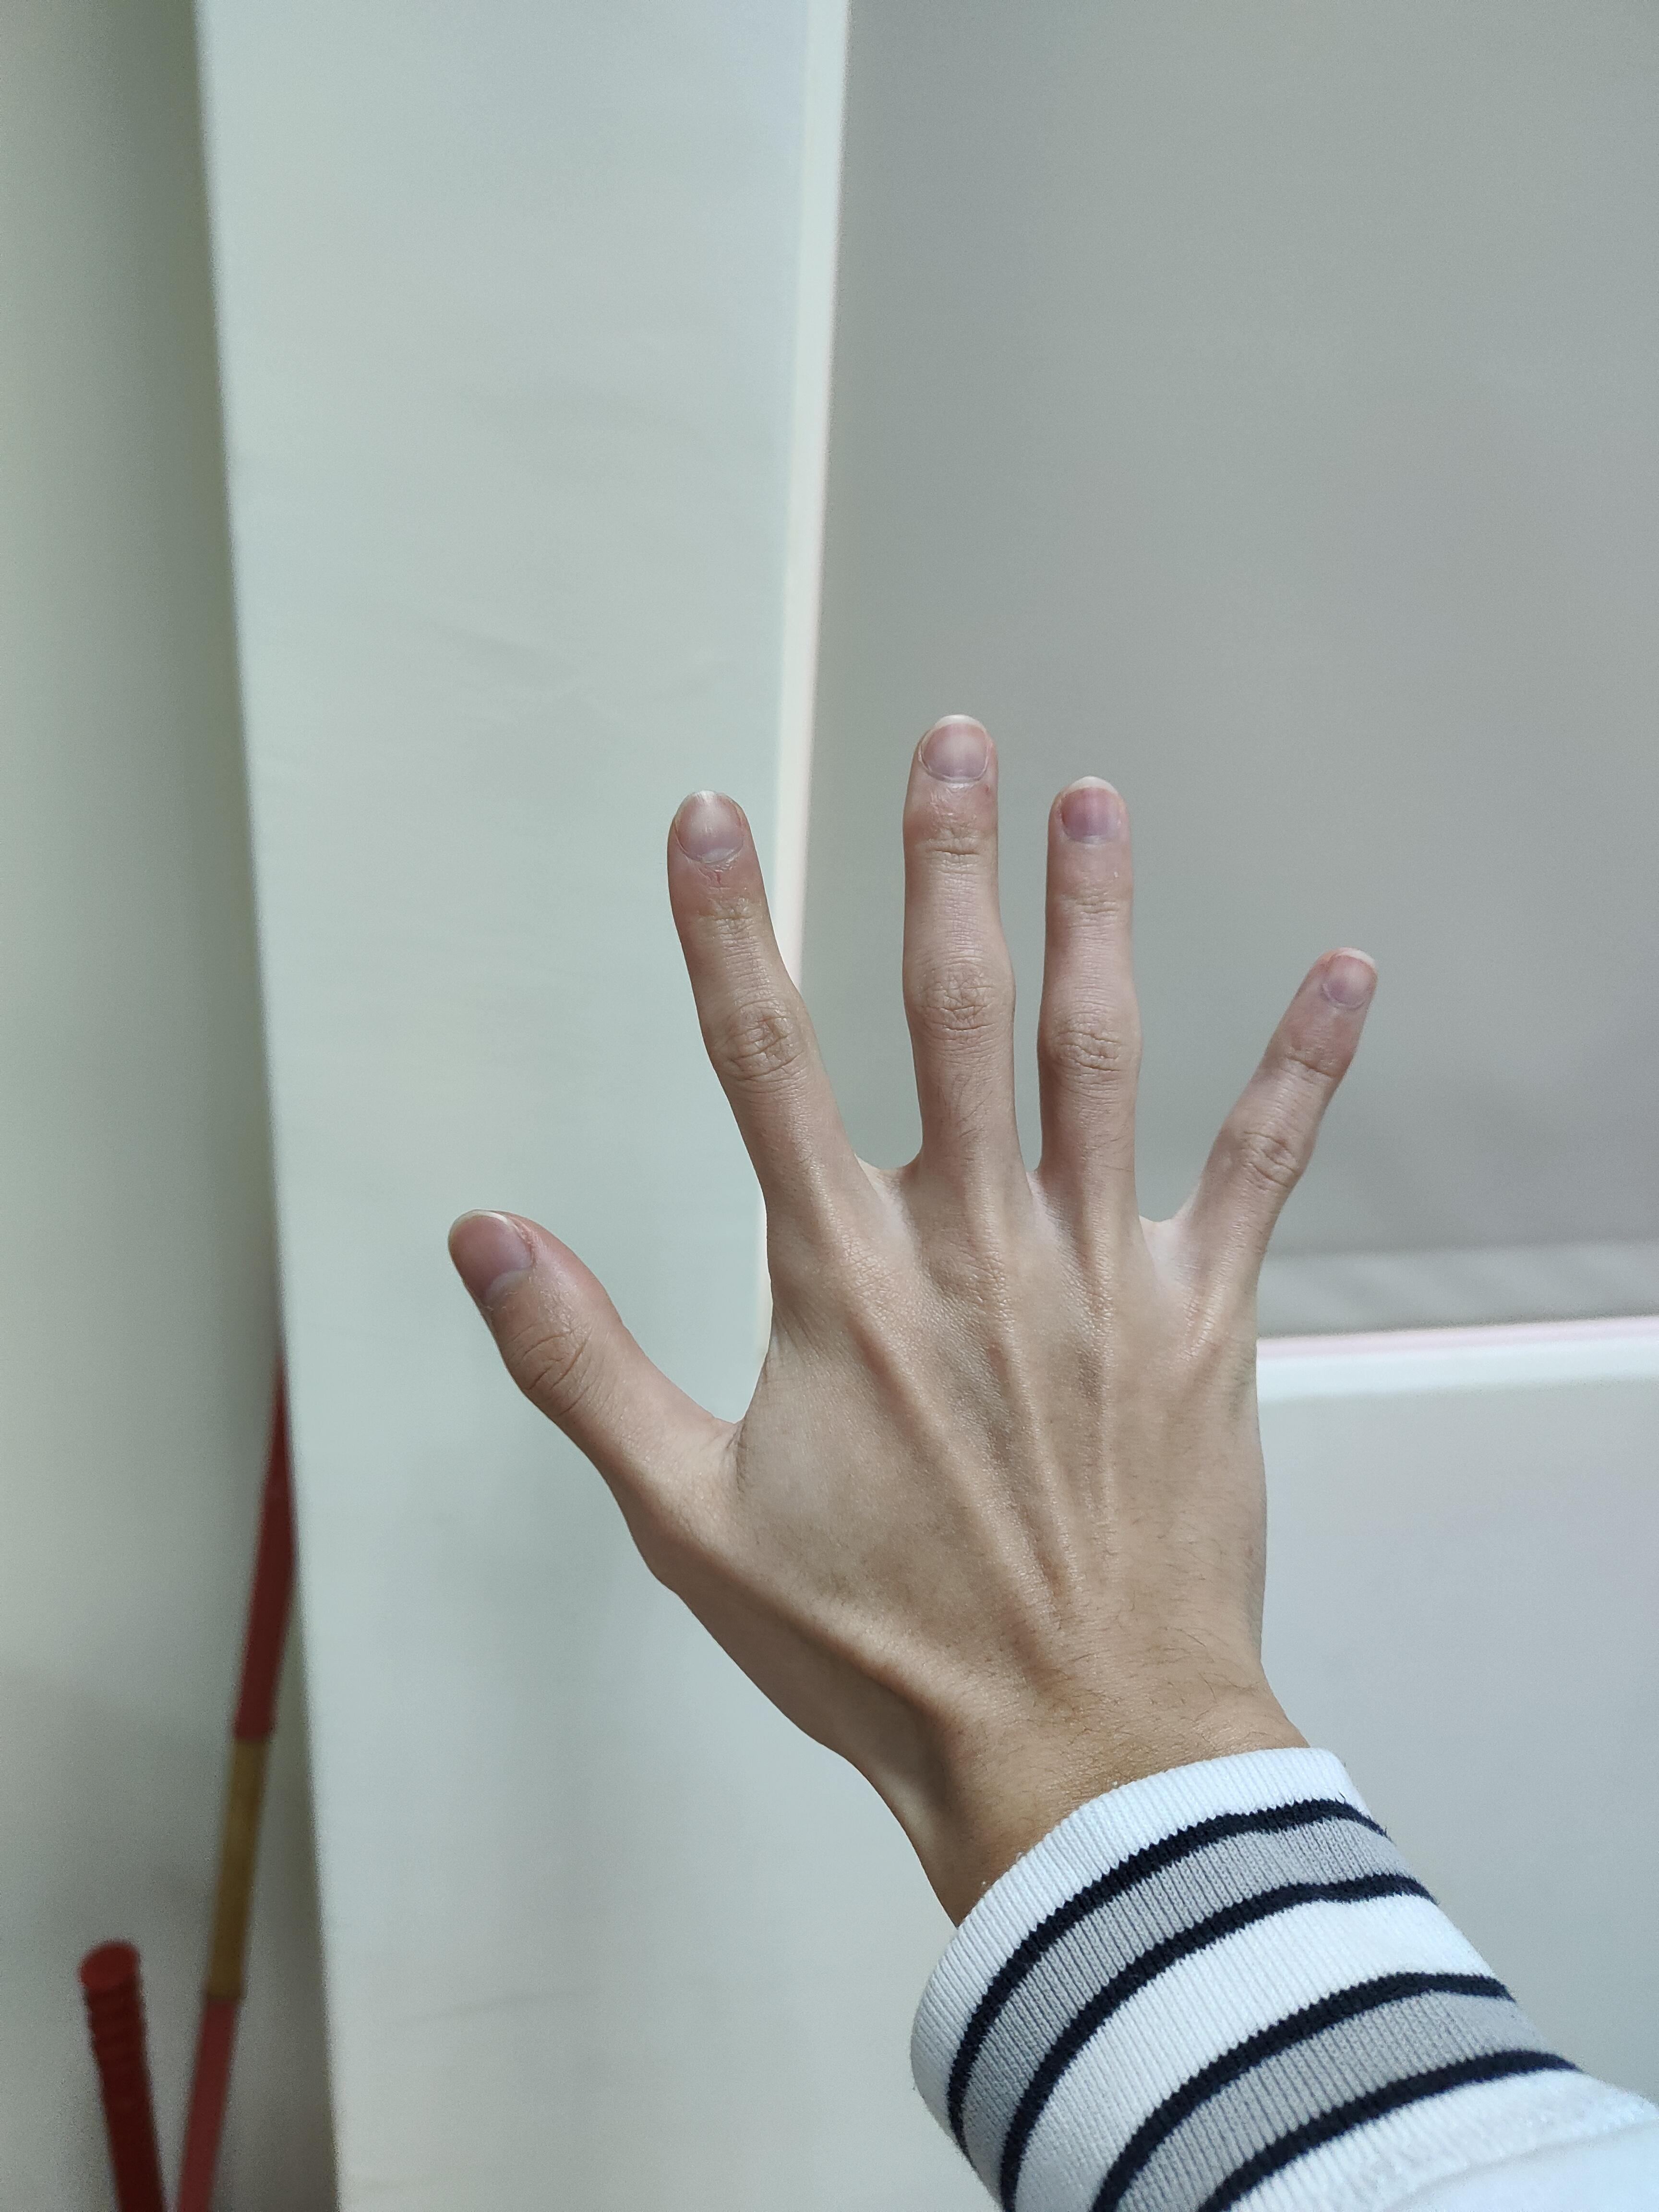hand: (448, 702, 1389, 1716)
